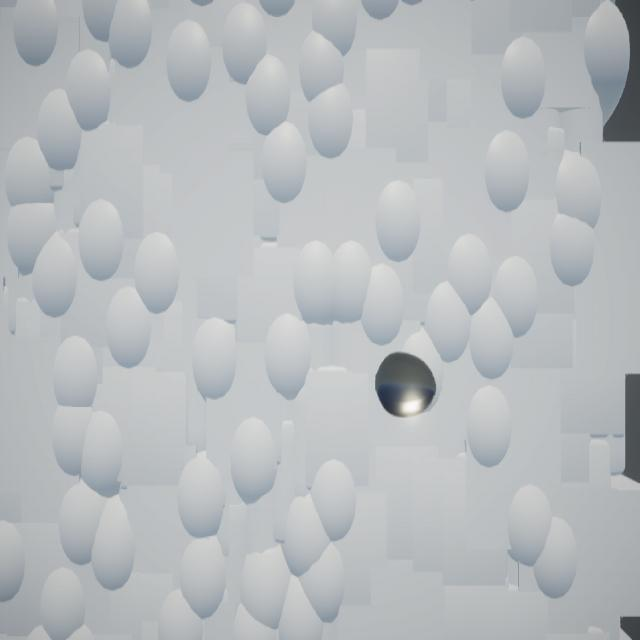top_spoon: (376, 352, 437, 419)
